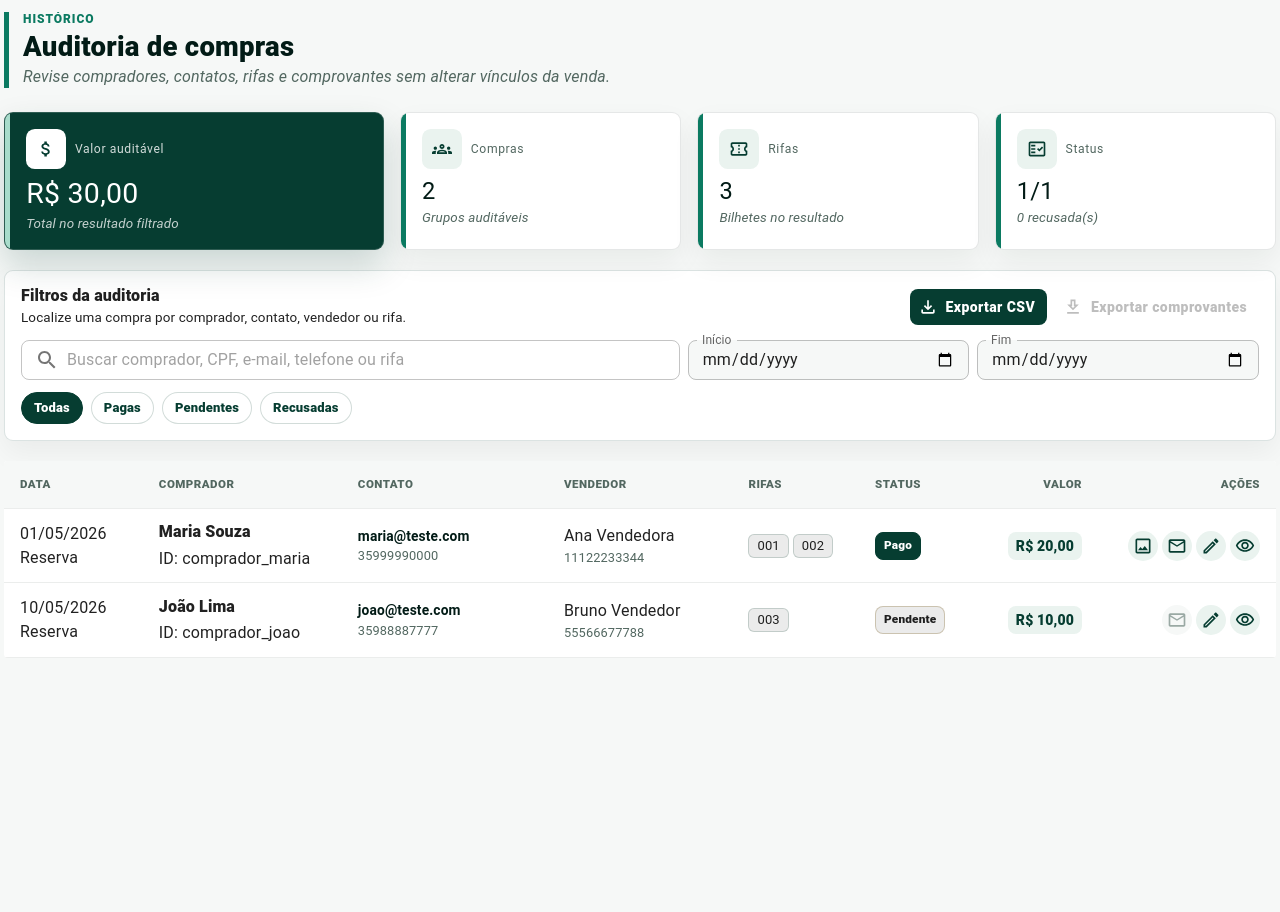
Test: Página <AuditoriaComprasPage /> › Deve filtrar por busca textual e status
In the field with placeholder "Buscar comprador, CPF, e-mail, telefone ou rifa": (373, 360) x1=67 y1=340 x2=680 y2=380, type "003"
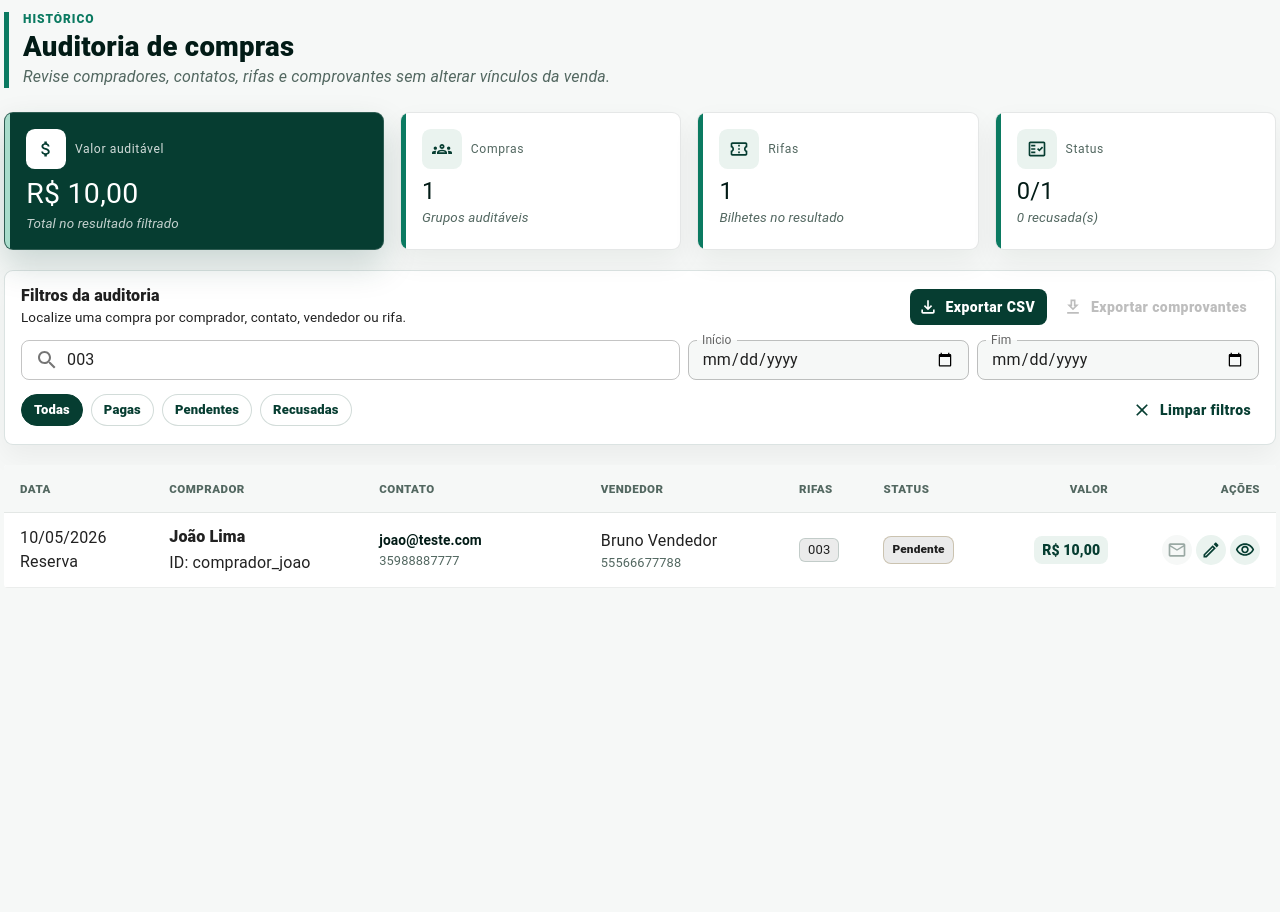
Expected: the text "João Lima" is shown, x1=169 y1=527 x2=246 y2=546
Result: the text "Maria Souza" is gone
Clear the field with placeholder "Buscar comprador, CPF, e-mail, telefone ou rifa": (373, 360) x1=67 y1=340 x2=680 y2=380
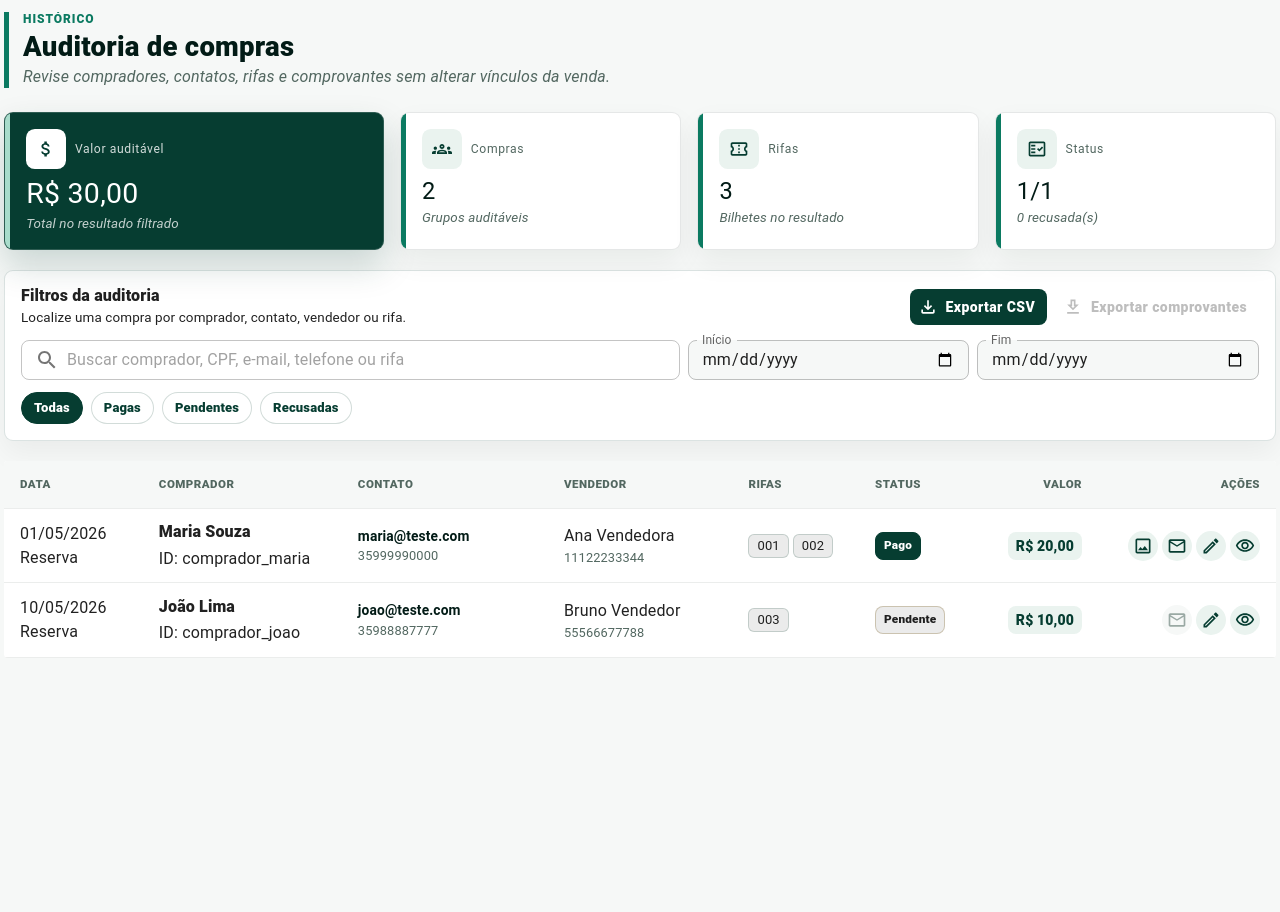
Click the button "Pendentes": (207, 408) x1=162 y1=392 x2=252 y2=424
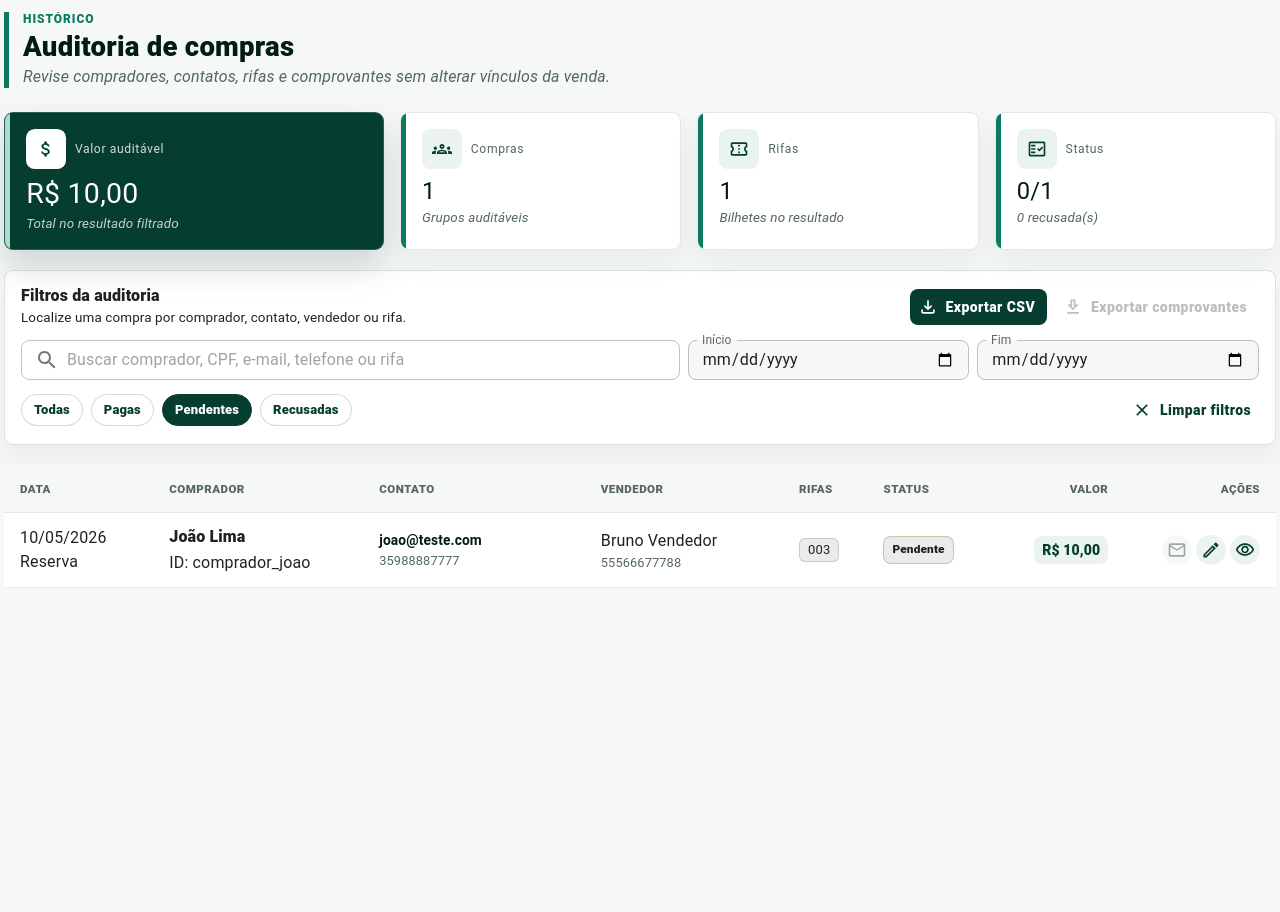
Expected: the text "João Lima" is shown, x1=169 y1=527 x2=246 y2=546
Result: the text "Maria Souza" is gone
